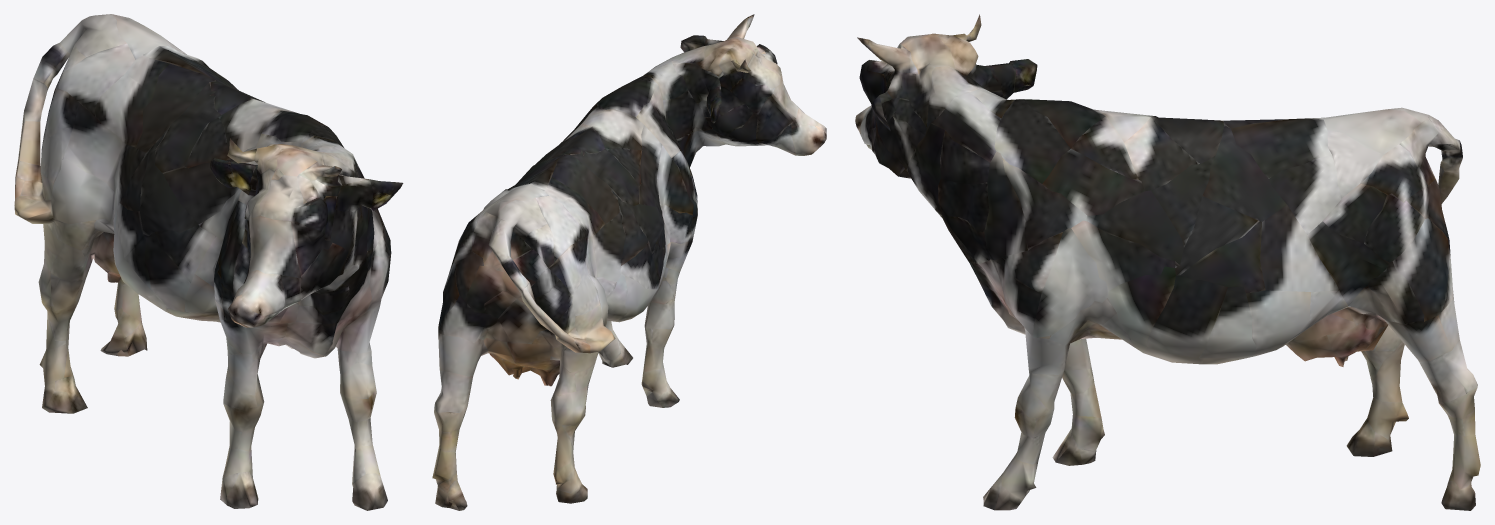
File: cow.glb
3 renders of one model, left to right at view 1: azimuth 30°, elevation 25°; view 2: azimuth 150°, elevation 25°; view 3: azimuth 270°, elevation 25°, orthographic. The views are drawn at different scales.
Size of the model in its own units: 0.9596 by 1.5 by 2.
Materials: 1 (1 with a texture image).
